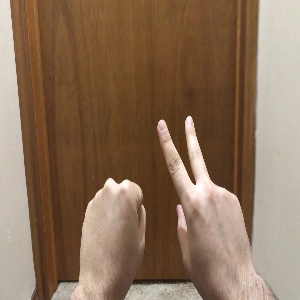hand: (156, 115, 256, 274), (80, 177, 147, 284)
